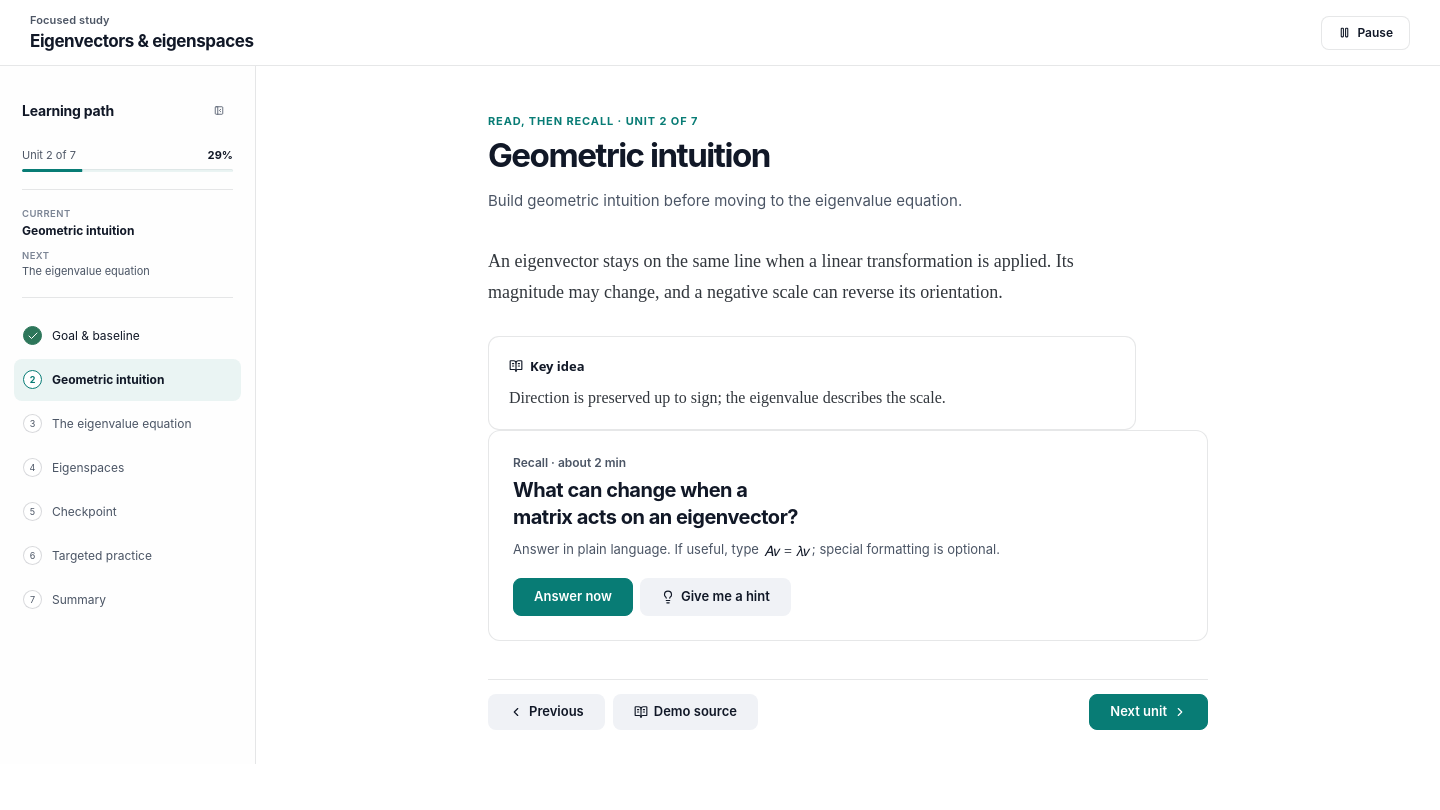
Test case: DeepLearnPage persisted session reader › keeps demo navigation semantic, pauses interactions, and shows a truthful summary
Click the button named "Collapse learning path". click: (219, 110)
box: [205, 92, 233, 128]
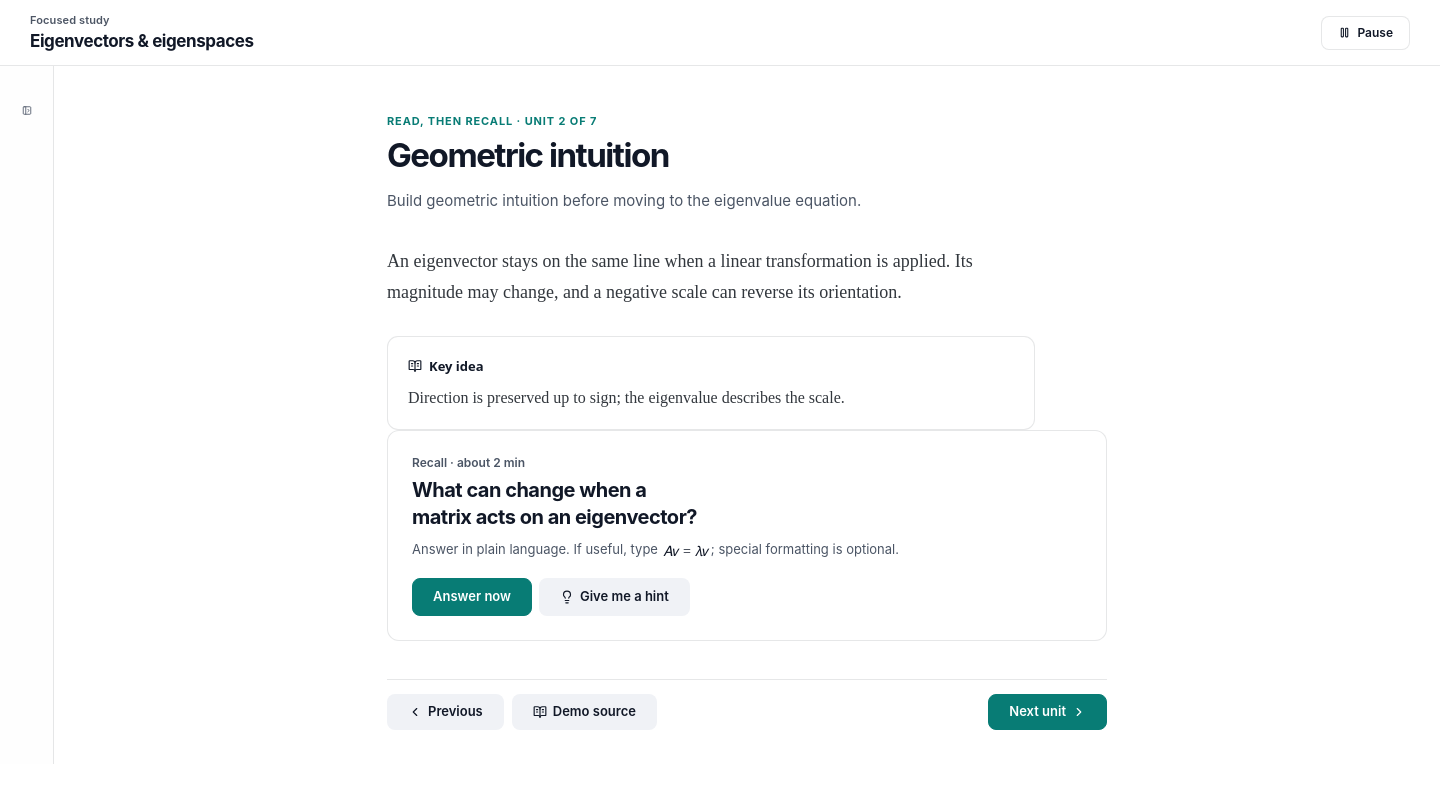
Now the element named "Learning path" has class "is-collapsed", box [0, 66, 54, 764]
Click the button named "Expand learning path". click: (26, 110)
box: [12, 92, 40, 128]
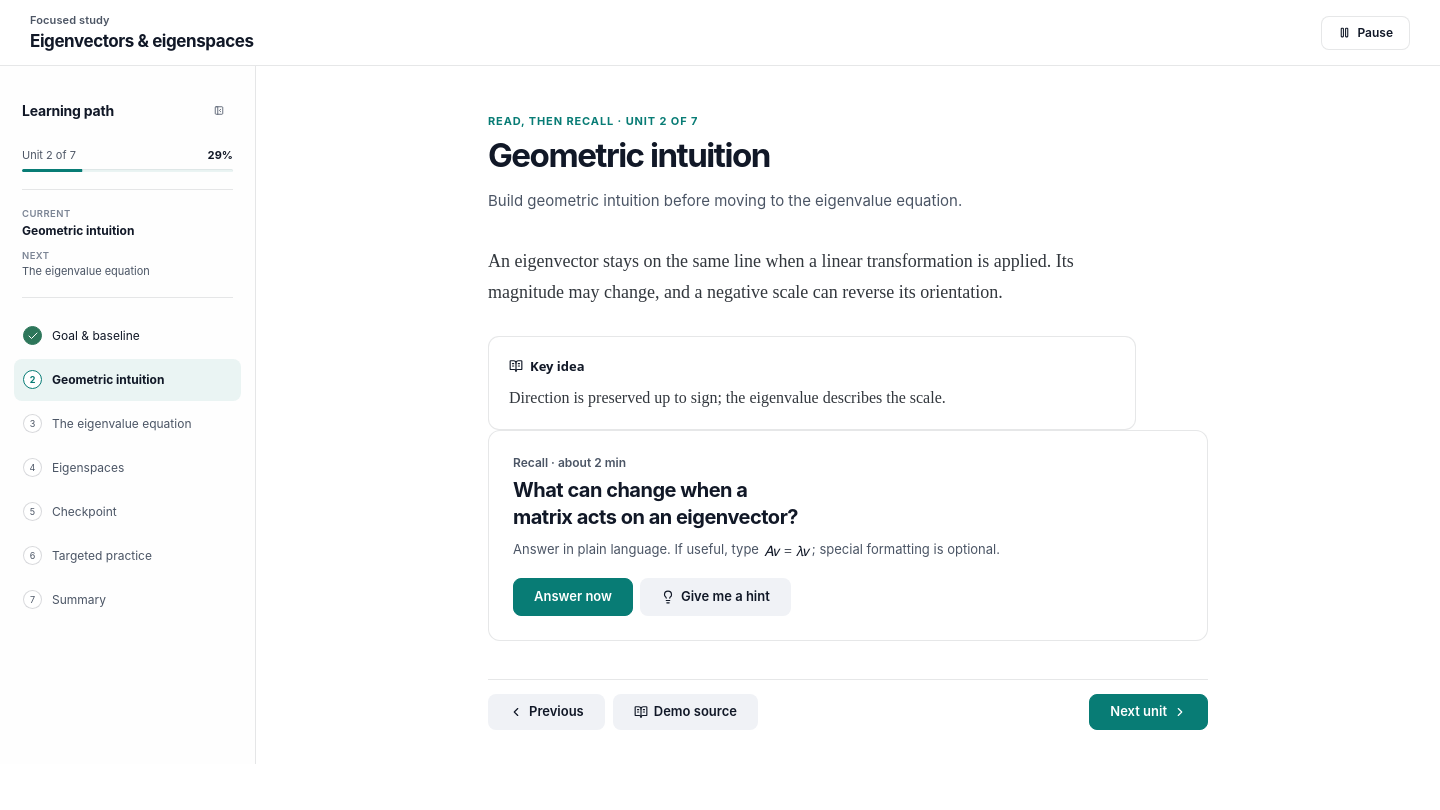
Now the element "Learning path" does not have class "is-collapsed", box [0, 66, 256, 764]
Click the button with aria-label "Pause demo". click: (1366, 32)
box: [1321, 16, 1410, 50]
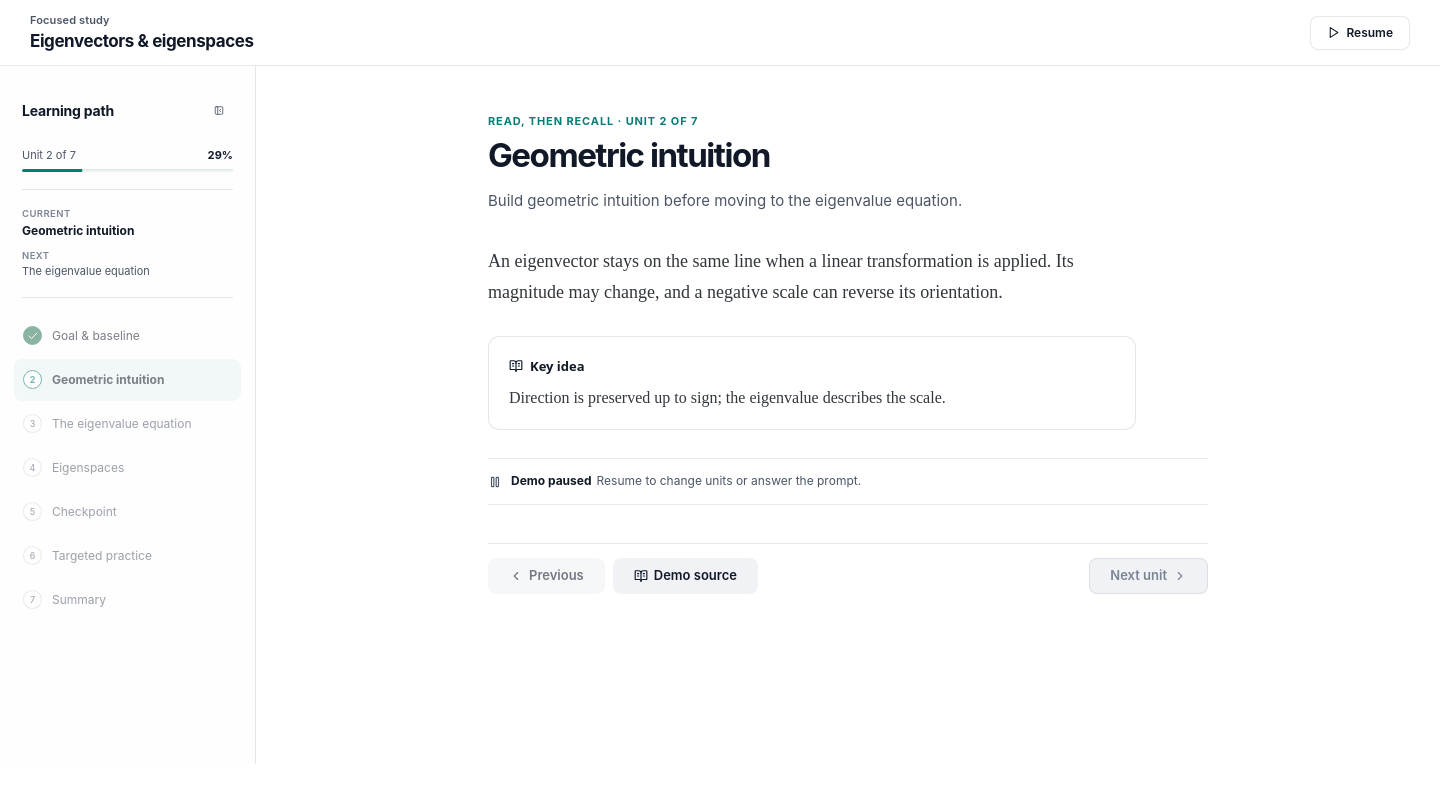
Now the text "Demo paused" is shown, box [511, 473, 592, 488]
Now the button "2 Geometric intuition" is disabled, box [14, 359, 241, 401]
Now the button "Previous" is disabled, box [488, 558, 605, 594]
Click the button with aria-label "Resume demo". click: (1360, 32)
box: [1310, 16, 1410, 50]
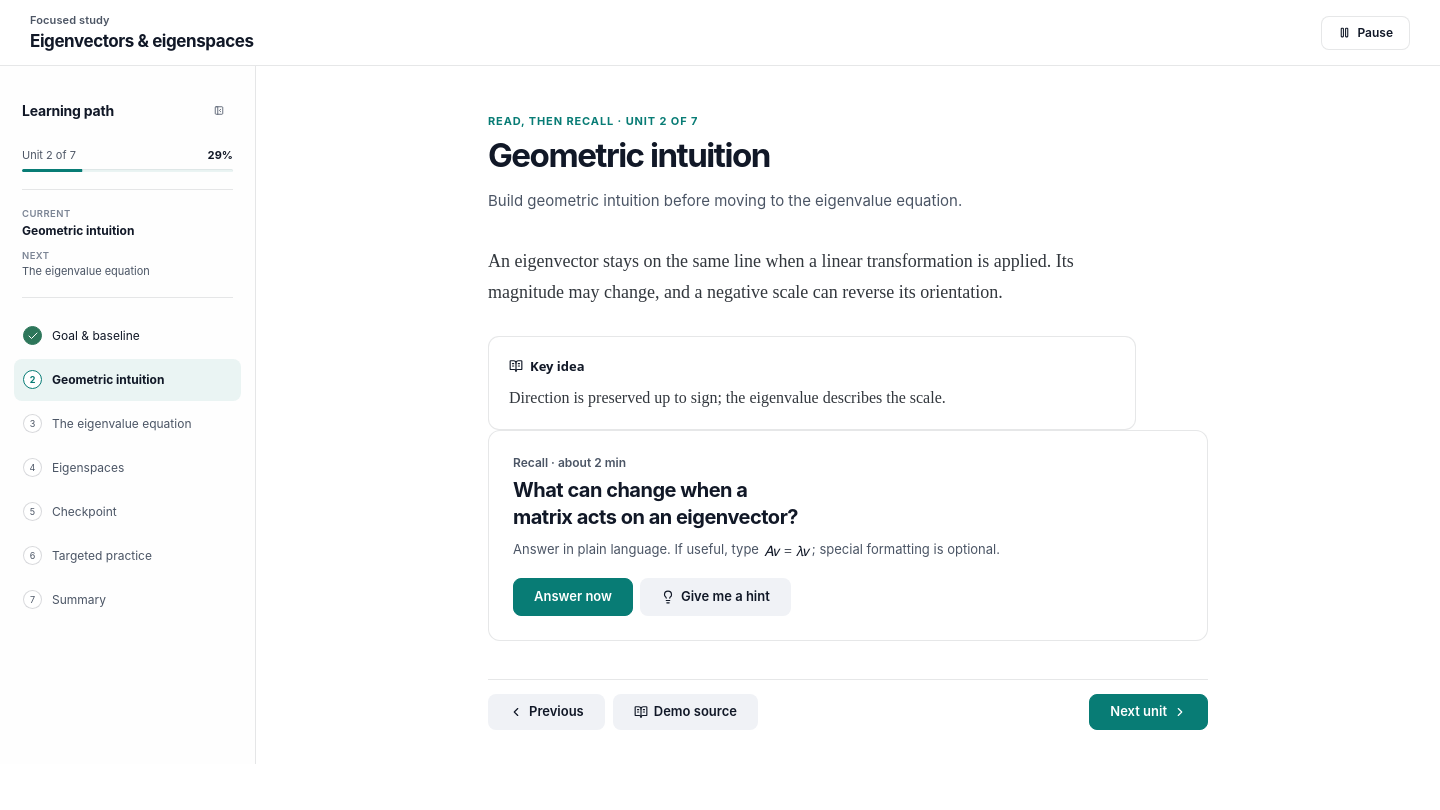
Click the button "7 Summary". click: (128, 600)
box: [14, 579, 241, 621]
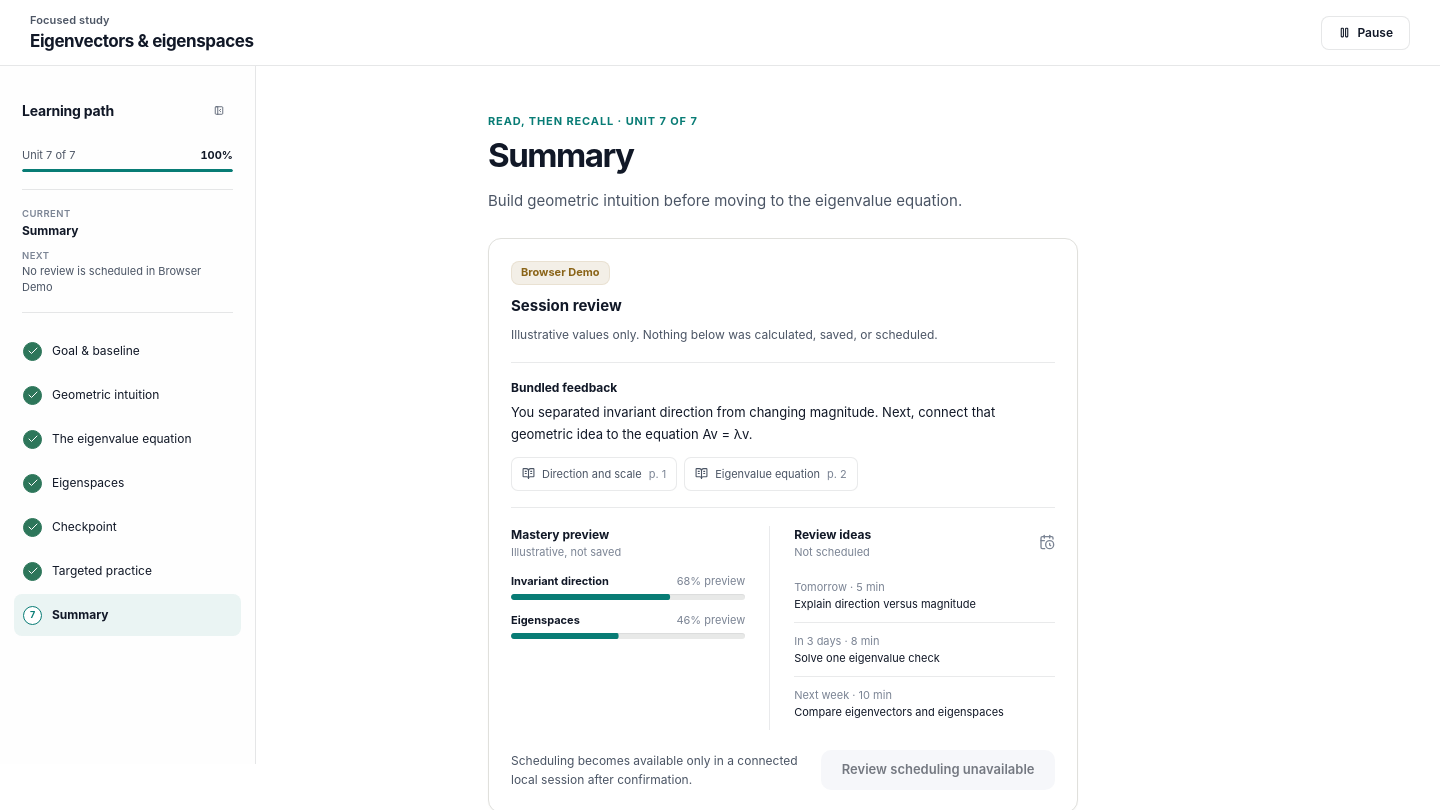
Now the heading "Session review" is shown, box [511, 296, 622, 315]
Now the text "Bundled feedback" is shown, box [511, 380, 617, 395]
Now the button "Direction and scale p. 1" is shown, box [511, 457, 677, 491]
